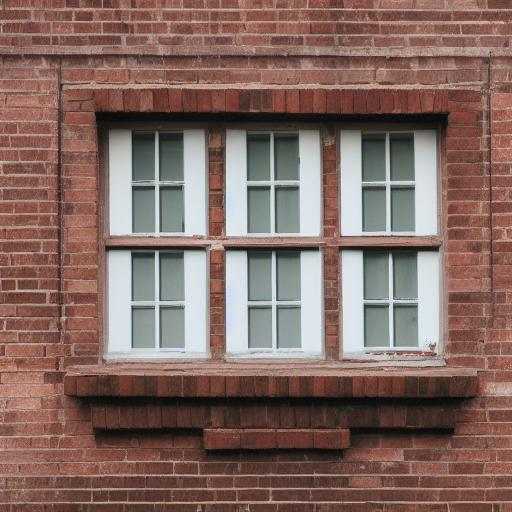Window: (63, 67, 491, 451)
